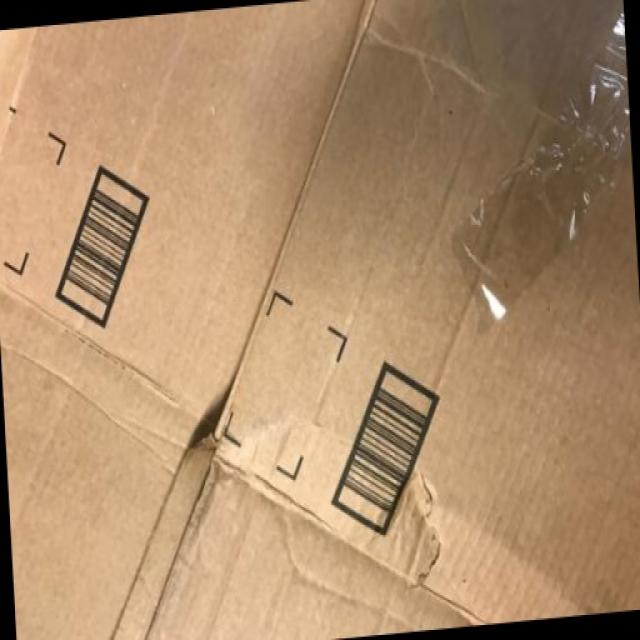carton: (24, 18, 491, 400)
